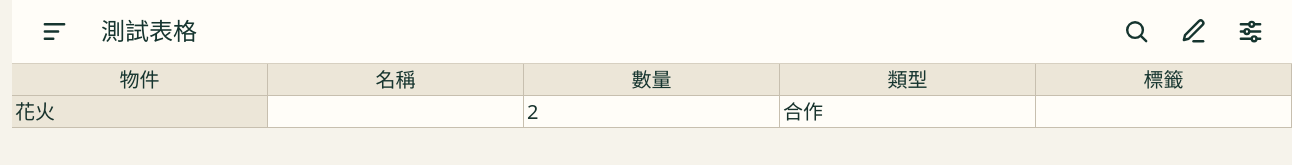
Test: WorkspacePage.filters › does not expose the unfinished transpose control
Click the button named "設定": [1250, 32] box [1226,8,1274,56]
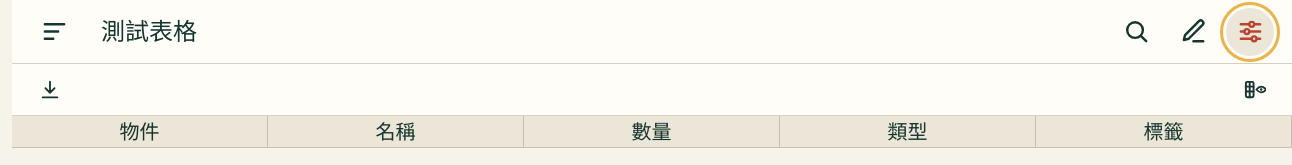
Expected: the button named "匯出此表" is shown, [30,68,70,112]
Expected: the button named "欄位顯示設定" is shown, [1234,68,1274,112]
